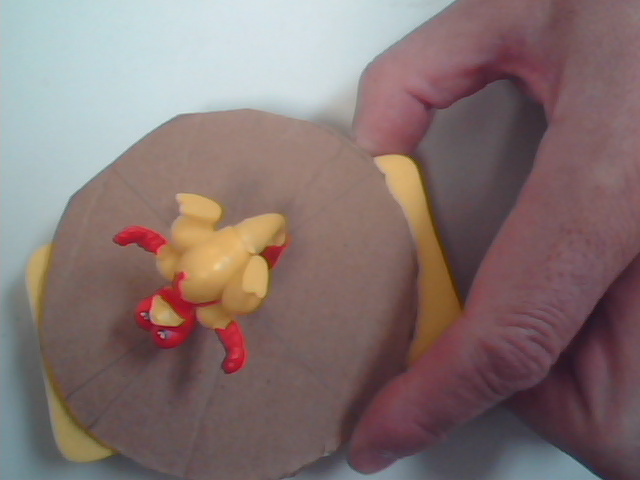magmar: (105, 180, 335, 391)
